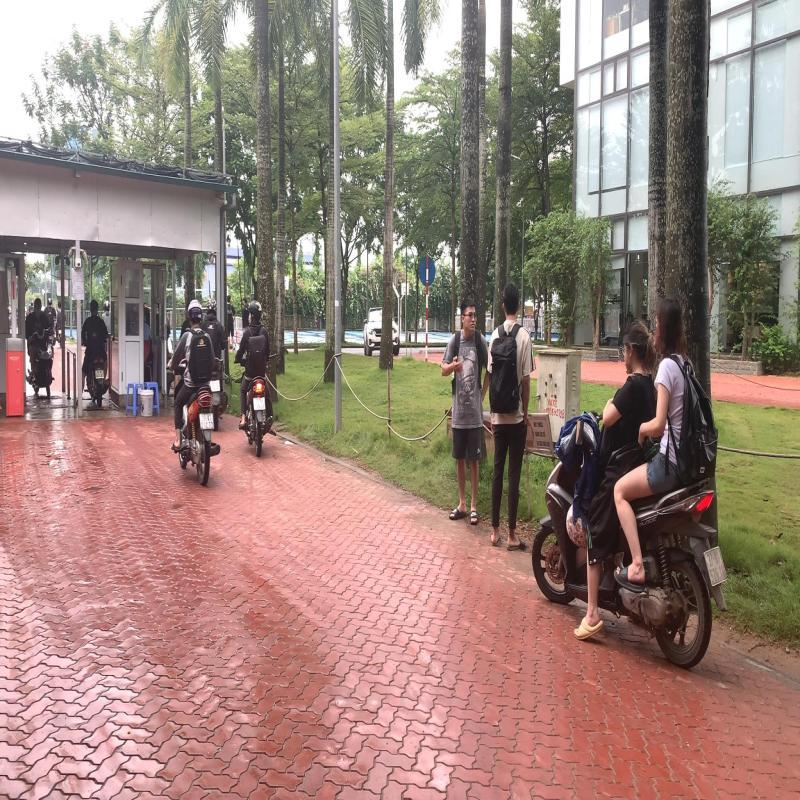nohelmet: (618, 317, 655, 376), (652, 294, 686, 354)
